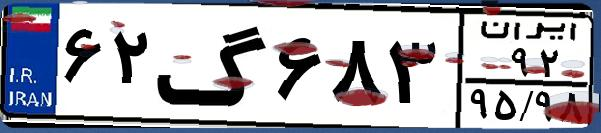2: (110, 28, 156, 98), (537, 27, 568, 80)
3: (385, 28, 445, 110)
5: (495, 70, 520, 125)
6: (270, 28, 330, 110), (57, 26, 110, 100)
8: (330, 28, 385, 110), (560, 70, 590, 125)
9: (508, 27, 537, 80), (470, 70, 495, 125), (535, 70, 560, 125)
گ: (156, 12, 270, 120)
